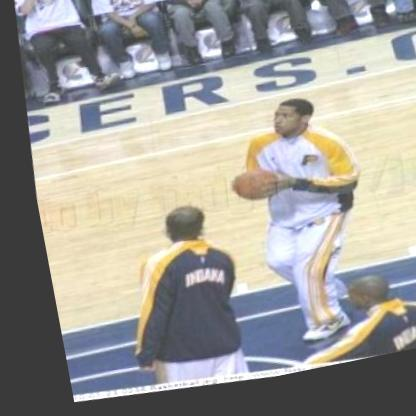basketball: (219, 172, 268, 215)
